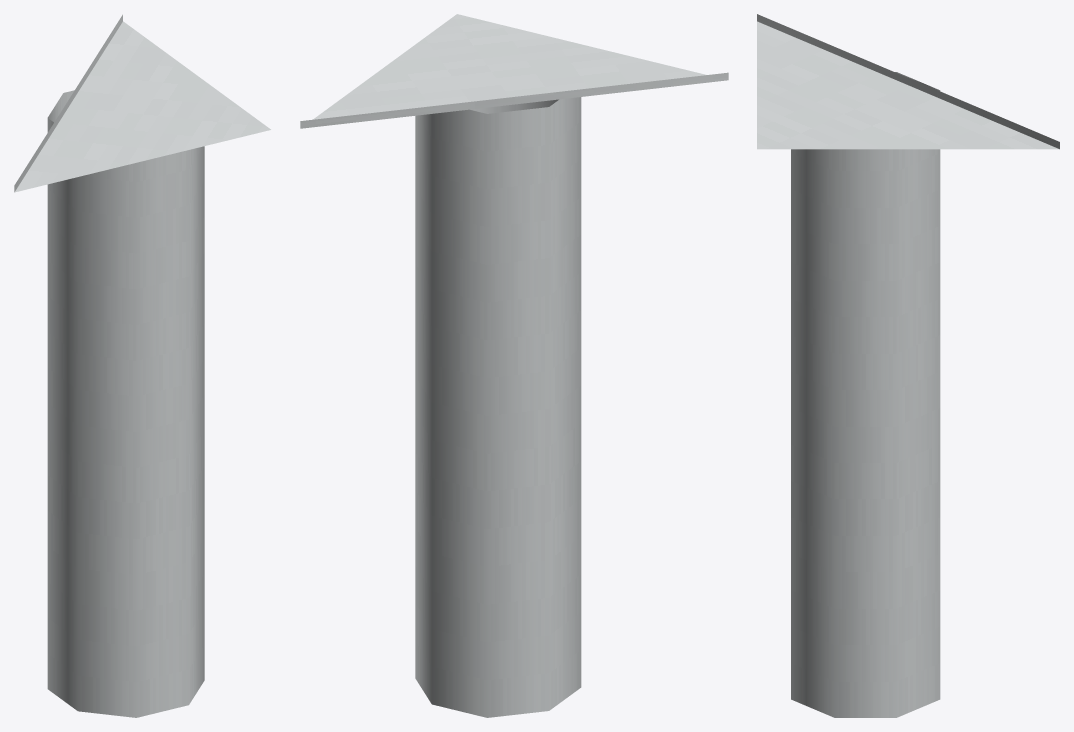
File: bowl_medium_0_0_0.obj
3 views of the same model, side by side, from view 1: azimuth 30°, elevation 25°; view 2: azimuth 150°, elevation 25°; view 3: azimuth 270°, elevation 25° (orthographic). The views are drawn at different scales.
Parts seen in each view (by area): view 1: bowl_medium_0_0_0; view 2: bowl_medium_0_0_0; view 3: bowl_medium_0_0_0.
Boxes of the visible parts, bbox=[...] form: bowl_medium_0_0_0: bbox=[14, 14, 270, 717]; bowl_medium_0_0_0: bbox=[300, 14, 728, 717]; bowl_medium_0_0_0: bbox=[757, 14, 1059, 717].
Size of the model in its own units: 1.39 by 3 by 1.39.
